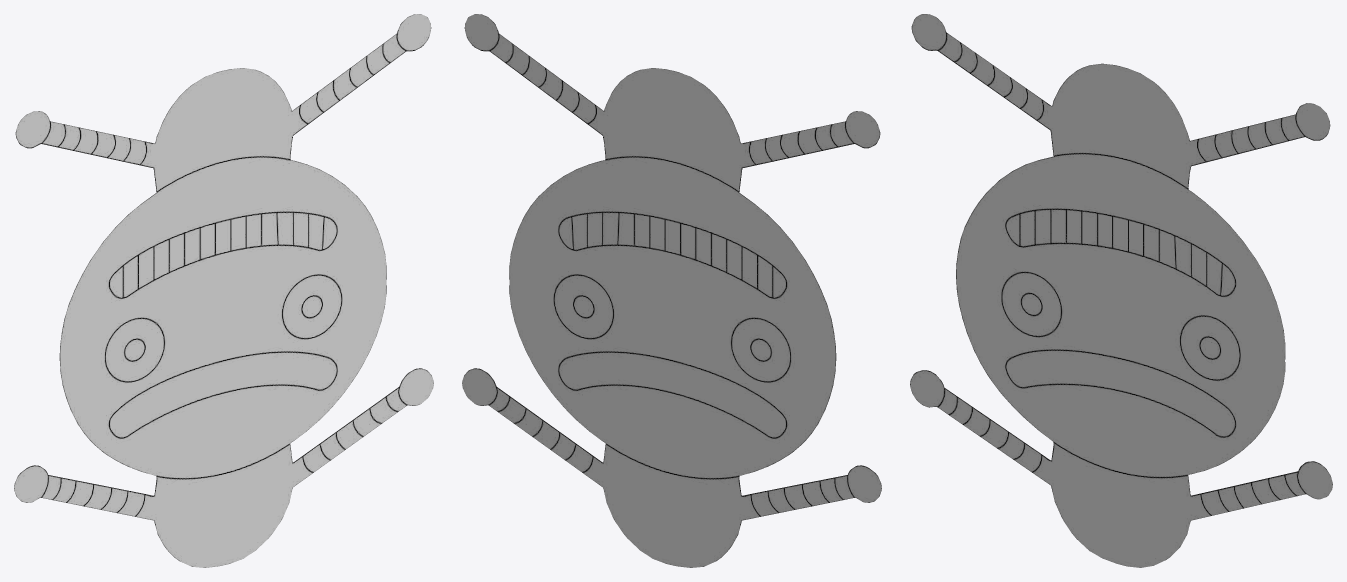
The model's file is 10_kaedung-01_fix.fbx.
The picture shows the model from 3 angles, left to right: view 1: azimuth 30°, elevation 25°; view 2: azimuth 150°, elevation 25°; view 3: azimuth 330°, elevation 25°; orthographic projection.
Visible parts, largest first — view 1: fdfdf; view 2: fdfdf; view 3: fdfdf.
Part boxes in pixels (x1,y1,x2,y2): fdfdf: (14,14,433,567); fdfdf: (462,14,881,567); fdfdf: (910,14,1332,567).
Bounding box in the file's own units: 8.8 × 10.11 × 1.65e-06.
Materials: 1 (1 with a texture image).
